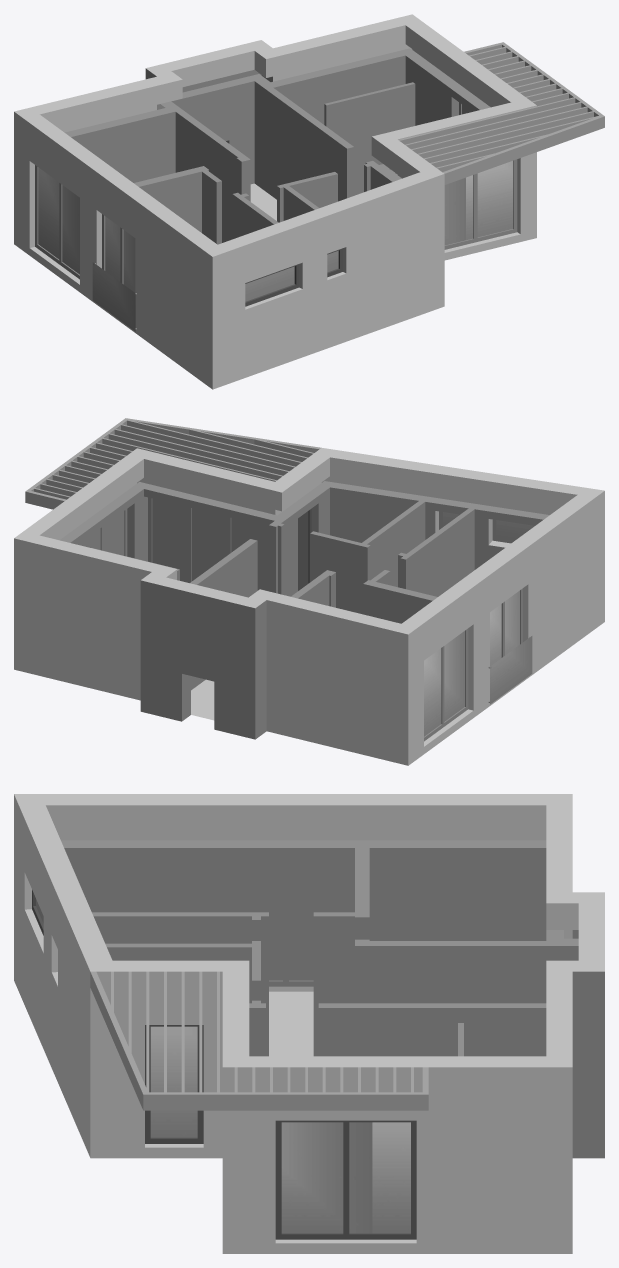
Rendered from kyje2.glb.
3 views of the same model, one above another, from view 1: azimuth 30°, elevation 25°; view 2: azimuth 150°, elevation 25°; view 3: azimuth 270°, elevation 25° (orthographic). The views are drawn at different scales.
Visible parts, largest first — view 1: Geom3D (×7), Geom3D_; view 2: Geom3D (×9), Geom3D_; view 3: Geom3D (×9), Geom3D_.
Boxes of the visible parts, <box> form: Geom3D (×7): <box>14,14,604,389</box>; Geom3D_: <box>35,48,517,284</box>; Geom3D (×9): <box>14,418,604,765</box>; Geom3D_: <box>60,481,549,741</box>; Geom3D (×9): <box>14,794,604,1253</box>; Geom3D_: <box>61,840,578,1056</box>.
Bounding box in the file's own units: 12.15 × 3.5 × 10.05.
Materials: 5 (1 with a texture image).
